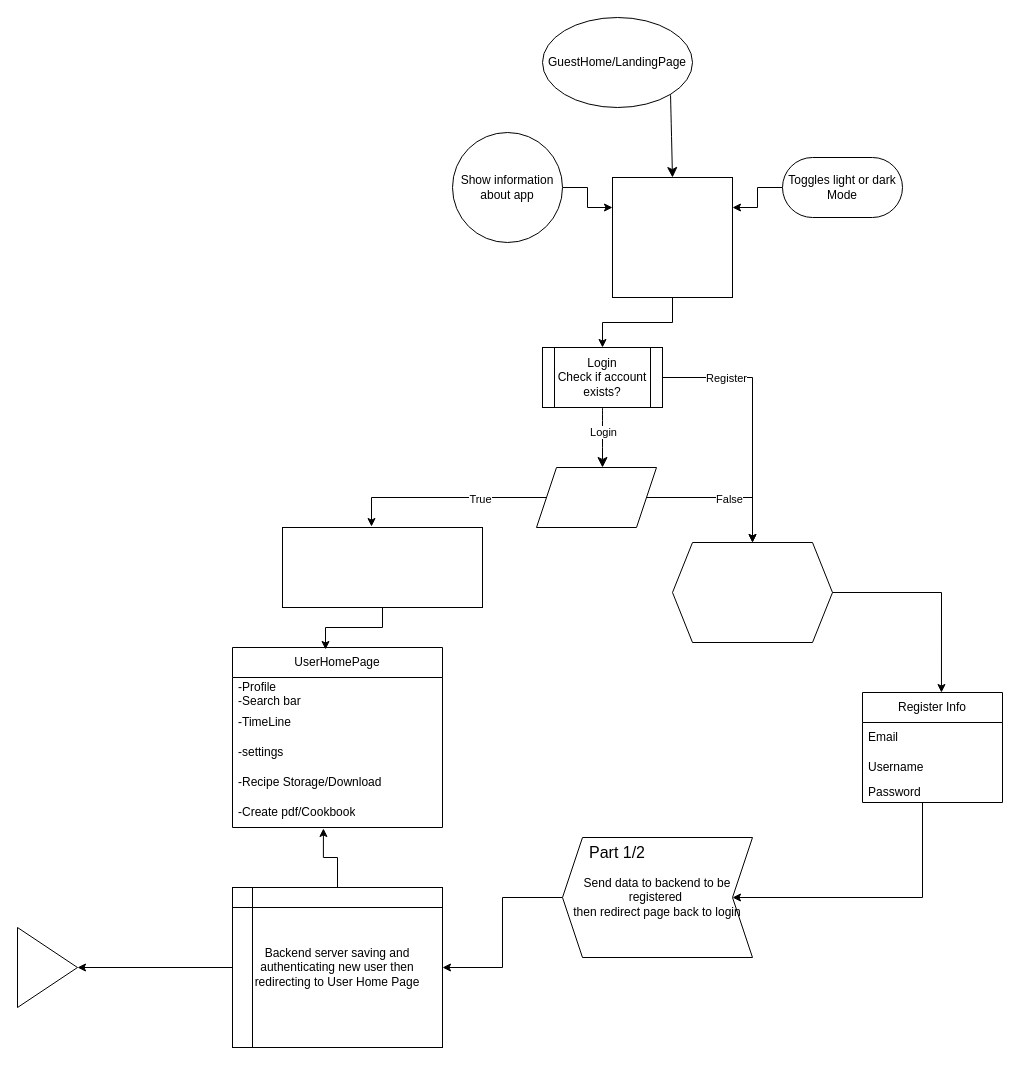
Image size: 1020x1065. Some labels were removed from this diagram. Here are the shapes that lost their labels. From the top down, the centre of each, then its label:
point 672,237: Simple in design with a toggle-able light mode and a login/ registration form
point 596,497: Does Account Exist?
point 382,567: Logs in
point 752,592: Register form will look the same as the login just with the added email function
